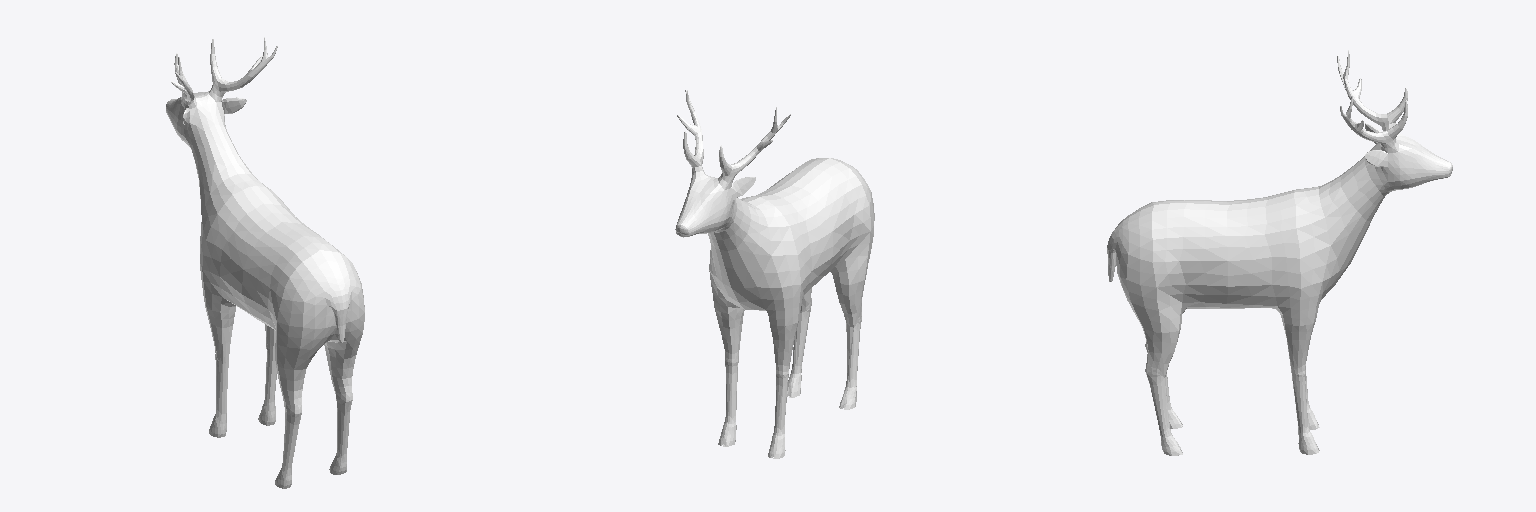
File: deer.obj
3 views of the same model, side by side, from view 1: azimuth 30°, elevation 25°; view 2: azimuth 150°, elevation 25°; view 3: azimuth 270°, elevation 25° (orthographic).
Parts seen in each view (by area): view 1: deer___UN; view 2: deer___UN; view 3: deer___UN.
Part boxes in pixels (x1,y1,x2,y2): deer___UN: (166, 37, 364, 488); deer___UN: (675, 90, 874, 458); deer___UN: (1107, 50, 1452, 455).
Bounding box in the file's own units: 8.05 × 27.37 × 23.19.